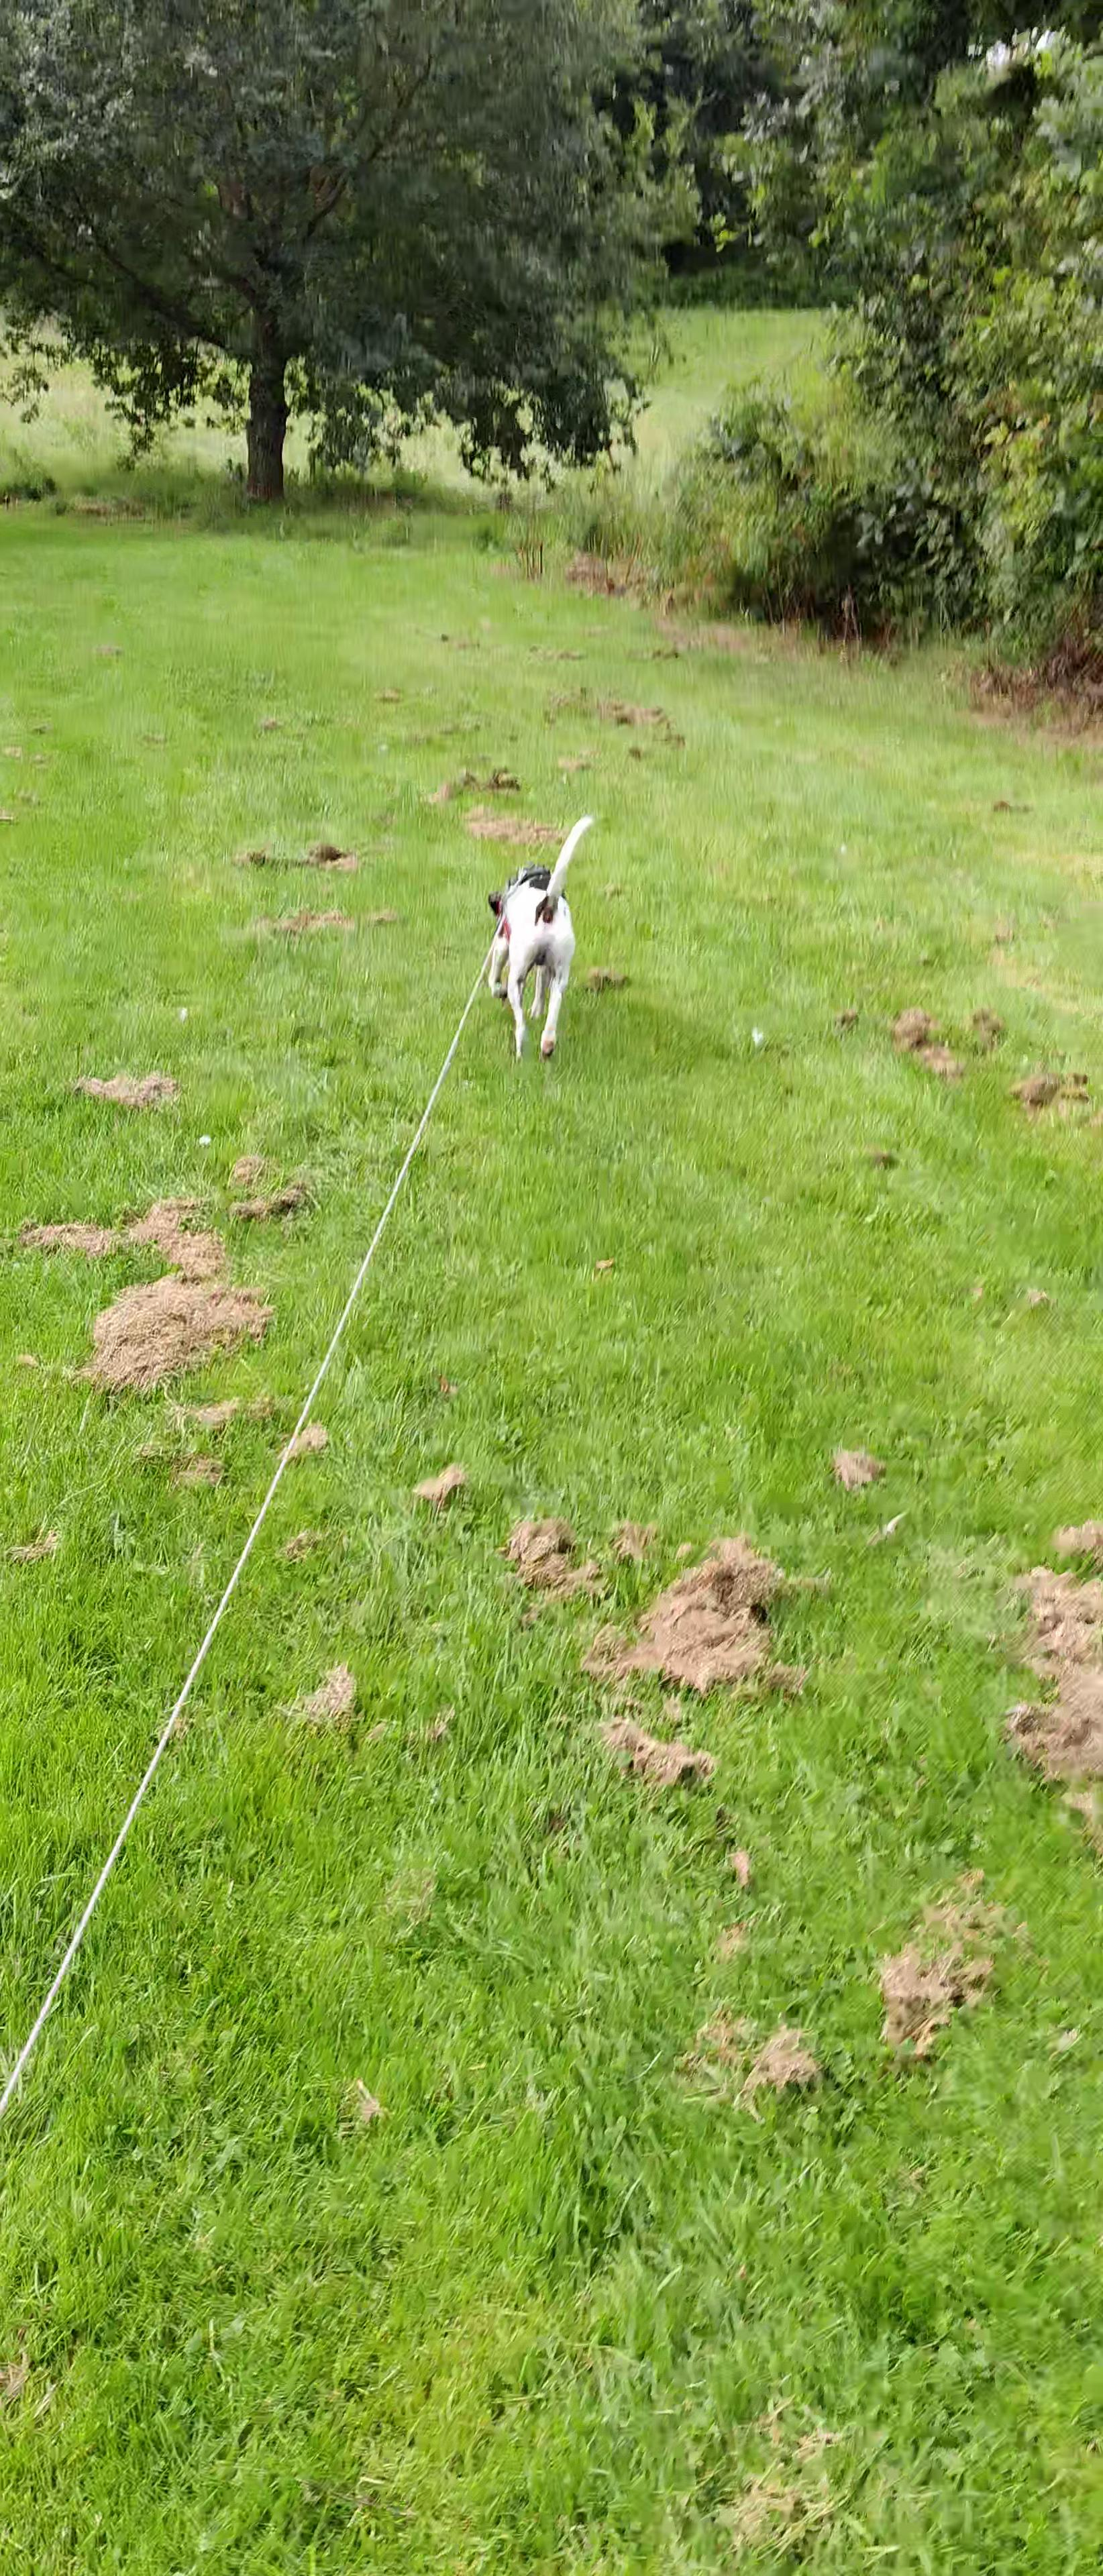Dog: (452, 785, 611, 1081)
